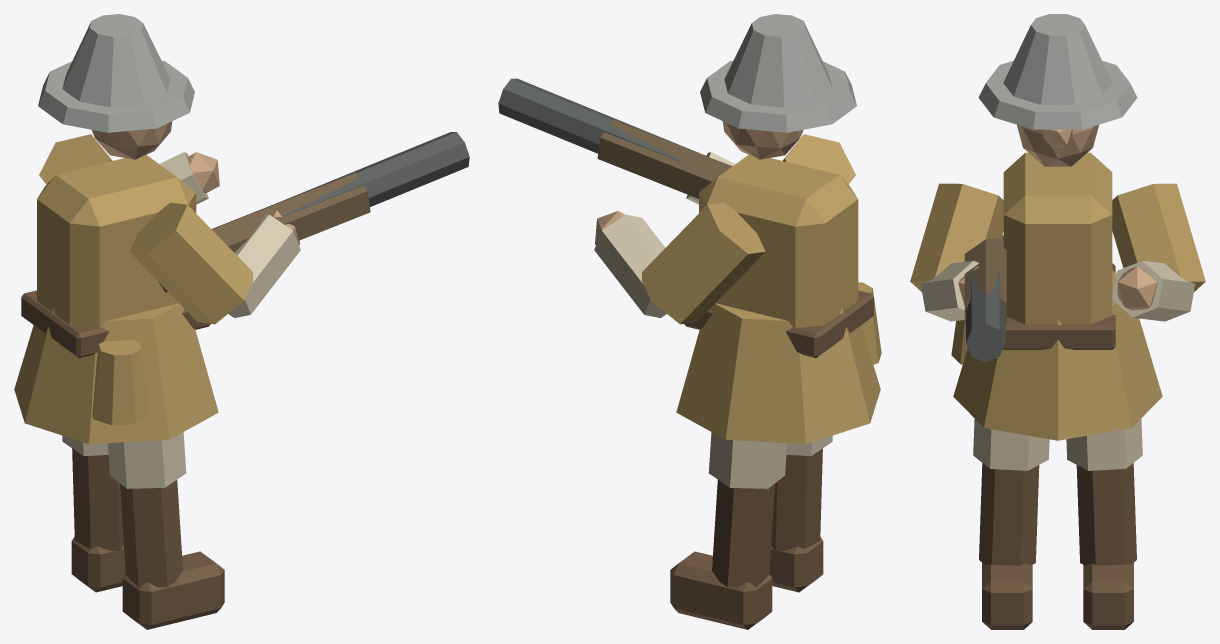
The model's file is infantry_handgun.glb.
The picture shows the model from 3 angles, left to right: view 1: azimuth 30°, elevation 25°; view 2: azimuth 150°, elevation 25°; view 3: azimuth 270°, elevation 25°; orthographic projection.
Visible parts, largest first — view 1: infantry_handgun_ochre, infantry_handgun_leather, infantry_handgun_steel, infantry_handgun_linen, infantry_handgun_iron, infantry_handgun_oak_dark, infantry_handgun_skin; view 2: infantry_handgun_ochre, infantry_handgun_leather, infantry_handgun_steel, infantry_handgun_linen, infantry_handgun_iron, infantry_handgun_oak_dark, infantry_handgun_skin; view 3: infantry_handgun_ochre, infantry_handgun_leather, infantry_handgun_steel, infantry_handgun_linen, infantry_handgun_skin, infantry_handgun_iron, infantry_handgun_oak_dark.
Boxes of the visible parts, <box> form: infantry_handgun_ochre: <box>14,134,252,444</box>; infantry_handgun_leather: <box>21,290,224,629</box>; infantry_handgun_steel: <box>38,14,194,132</box>; infantry_handgun_linen: <box>62,152,300,488</box>; infantry_handgun_iron: <box>270,132,469,215</box>; infantry_handgun_oak_dark: <box>158,173,370,292</box>; infantry_handgun_skin: <box>92,121,299,244</box>; infantry_handgun_ochre: <box>642,134,881,444</box>; infantry_handgun_leather: <box>670,290,873,629</box>; infantry_handgun_steel: <box>700,14,856,132</box>; infantry_handgun_linen: <box>594,152,832,488</box>; infantry_handgun_iron: <box>498,78,695,162</box>; infantry_handgun_oak_dark: <box>597,119,732,198</box>; infantry_handgun_skin: <box>595,121,803,244</box>; infantry_handgun_ochre: <box>910,152,1205,440</box>; infantry_handgun_leather: <box>979,263,1136,629</box>; infantry_handgun_steel: <box>978,14,1137,129</box>; infantry_handgun_linen: <box>920,260,1195,470</box>; infantry_handgun_skin: <box>958,104,1157,310</box>; infantry_handgun_iron: <box>966,271,1005,362</box>; infantry_handgun_oak_dark: <box>964,235,1006,325</box>.
Size of the model in its own units: 1.27 by 1.75 by 0.8186.
